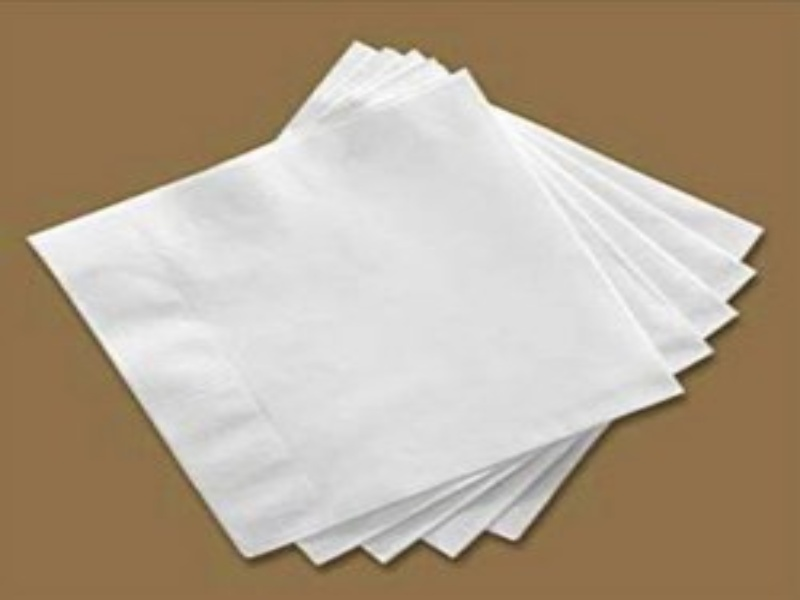Tissues_Recyc: (20, 21, 776, 589)
